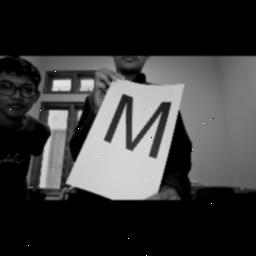m: (105, 88, 175, 166)
